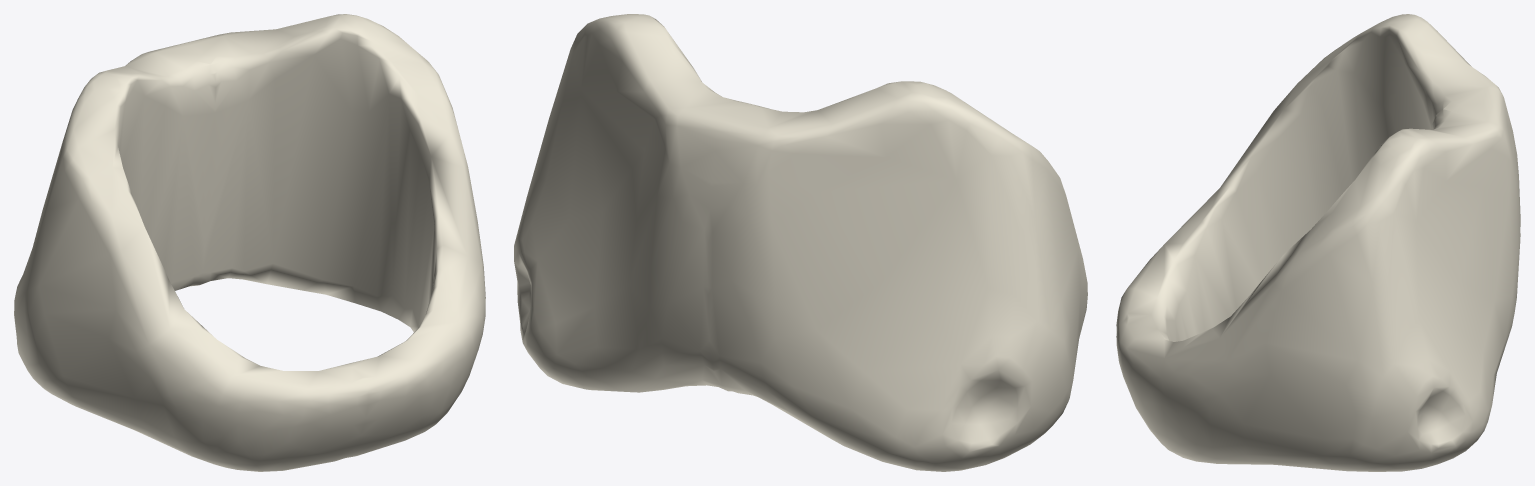
The picture shows the model from 3 angles, left to right: view 1: azimuth 30°, elevation 25°; view 2: azimuth 150°, elevation 25°; view 3: azimuth 270°, elevation 25°; orthographic projection. The views are drawn at different scales.
Parts seen in each view (by area): view 1: ZA_888a529f443eff42; view 2: ZA_888a529f443eff42; view 3: ZA_888a529f443eff42.
Part boxes in pixels (box(x1,y1,x2,y2)): ZA_888a529f443eff42: box(14, 14, 485, 471); ZA_888a529f443eff42: box(514, 14, 1087, 471); ZA_888a529f443eff42: box(1116, 14, 1520, 471).
Size of the model in its own units: 0.0243 by 0.0175 by 0.0189.
